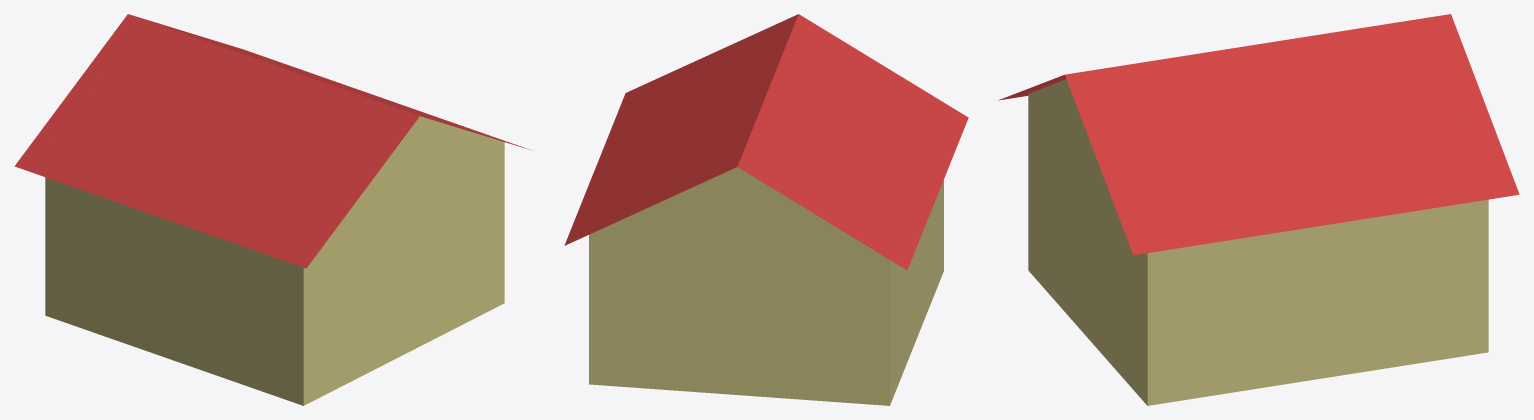
The picture shows the model from 3 angles, left to right: view 1: azimuth 30°, elevation 25°; view 2: azimuth 150°, elevation 25°; view 3: azimuth 270°, elevation 25°; orthographic projection. The views are drawn at different scales.
Bounding box in the file's own units: 15.93 × 16.32 × 9.18.
